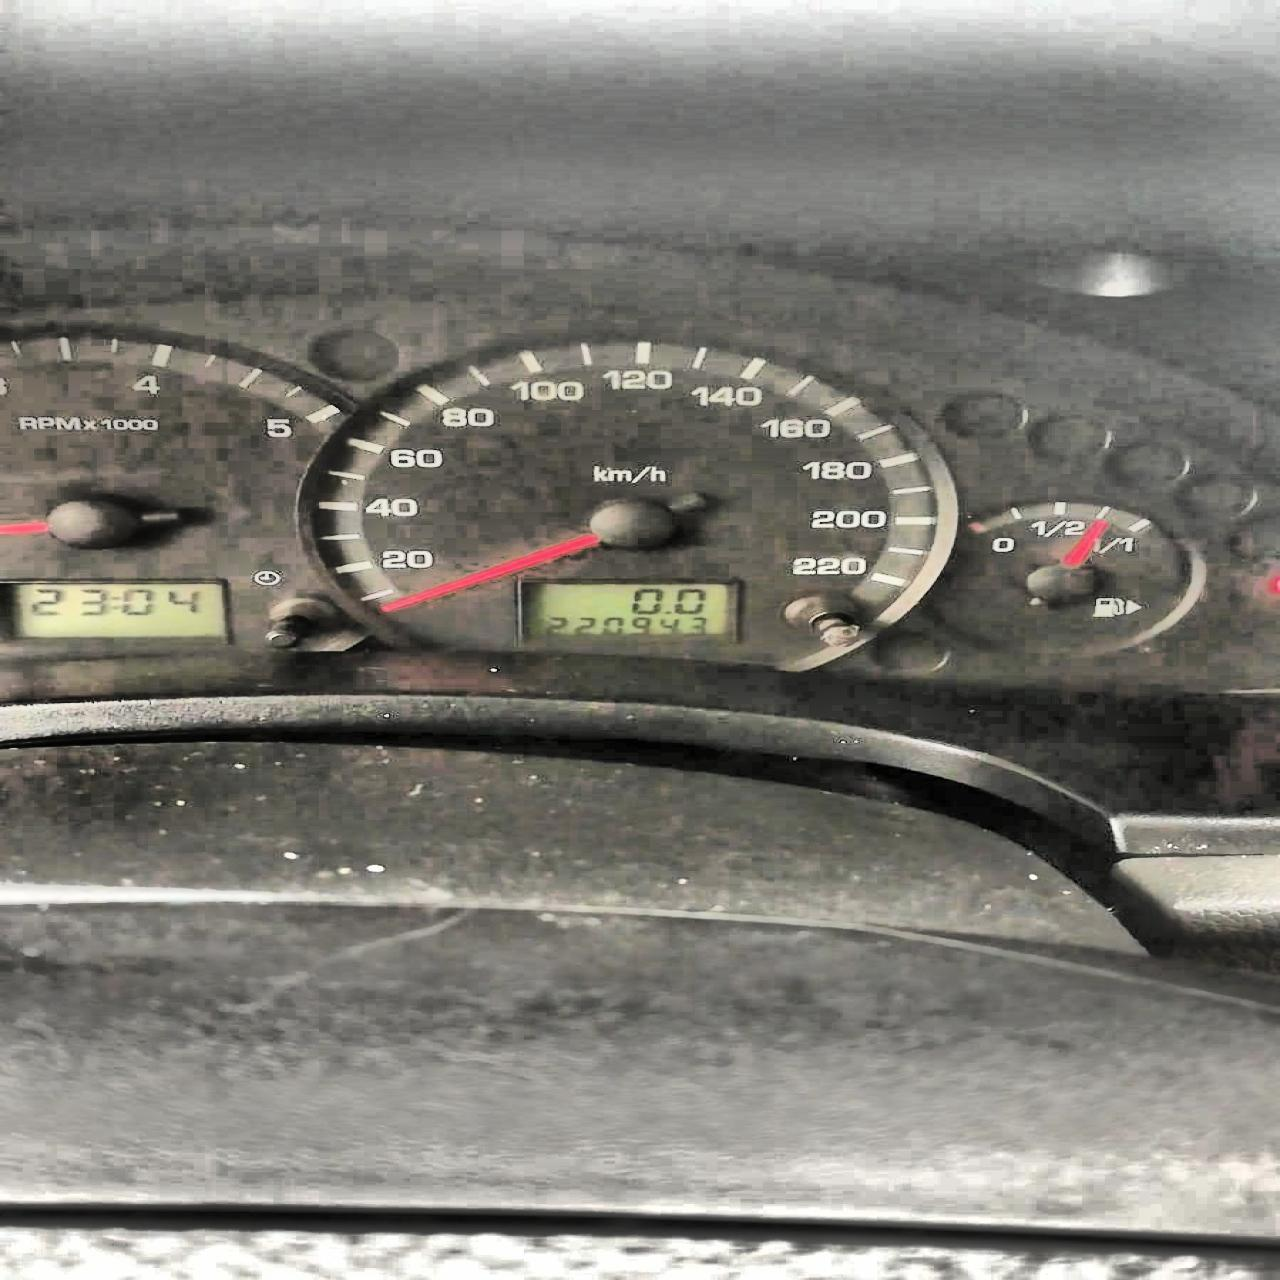-: (662, 610, 672, 614)
0: (672, 587, 703, 614), (629, 587, 661, 614), (601, 617, 622, 634)
2: (572, 617, 595, 635), (544, 617, 567, 635)
3: (688, 617, 707, 634)
4: (658, 617, 678, 633)
9: (629, 615, 651, 634)
odometer: (512, 578, 747, 648)
